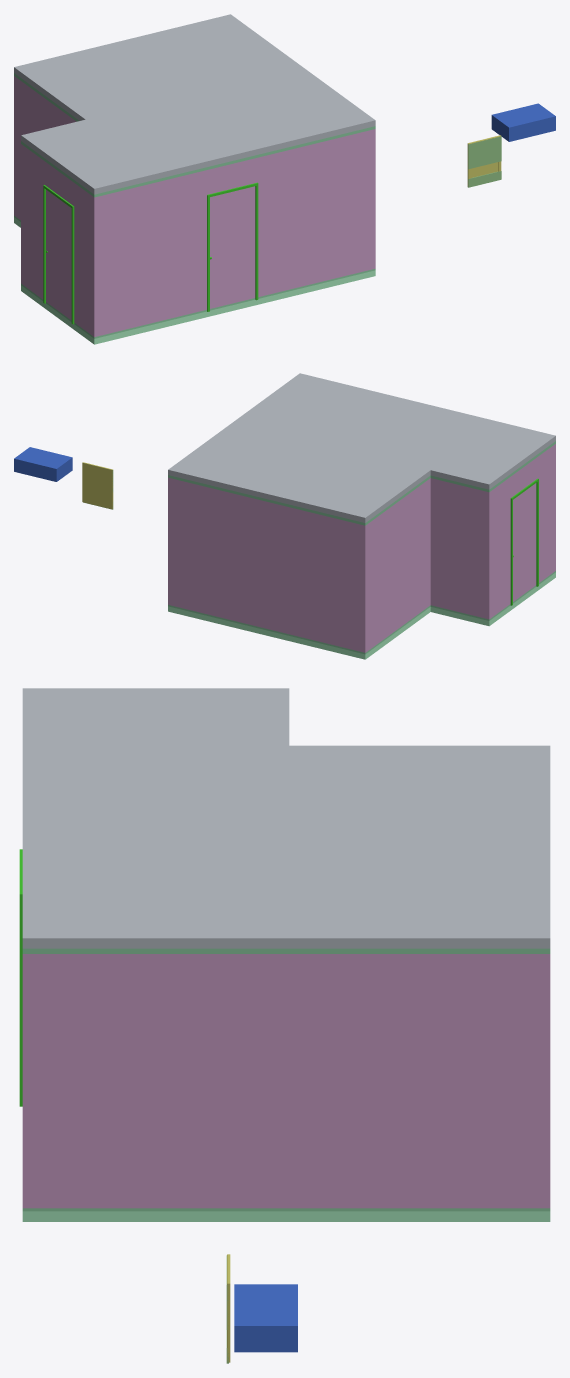
The model's file is FloorPlan5_physics.fbx.
3 views of the same model, one above another, from view 1: azimuth 30°, elevation 25°; view 2: azimuth 150°, elevation 25°; view 3: azimuth 270°, elevation 25° (orthographic). The views are drawn at different scales.
Parts seen in each view (by area): view 1: StandardWallSize, Ceiling, Floor, StandardSinkSize1, StandardDoorFrame1, StandardDoorFrame1 (2), DrawerBase2; view 2: StandardWallSize, Ceiling, Floor, StandardSinkSize1, CabinetDoorBase3, StandardDoorFrame1 (2); view 3: StandardWallSize, Ceiling, Floor, StandardSinkSize1, StandardDoorFrame1.
Part boxes in pixels (x1=…): StandardWallSize: x1=14, y1=73, x2=375, y2=338; Ceiling: x1=14, y1=14, x2=375, y2=194; Floor: x1=14, y1=217, x2=375, y2=344; StandardSinkSize1: x1=491, y1=103, x2=555, y2=141; StandardDoorFrame1: x1=207, y1=182, x2=258, y2=311; StandardDoorFrame1 (2): x1=43, y1=185, x2=74, y2=324; DrawerBase2: x1=468, y1=143, x2=501, y2=169; StandardWallSize: x1=168, y1=441, x2=555, y2=654; Ceiling: x1=168, y1=373, x2=555, y2=522; Floor: x1=168, y1=572, x2=555, y2=659; StandardSinkSize1: x1=14, y1=447, x2=72, y2=481; CabinetDoorBase3: x1=82, y1=462, x2=112, y2=508; StandardDoorFrame1 (2): x1=510, y1=478, x2=538, y2=605; StandardWallSize: x1=22, y1=948, x2=550, y2=1211; Ceiling: x1=22, y1=688, x2=550, y2=948; Floor: x1=22, y1=1211, x2=550, y2=1221; StandardSinkSize1: x1=234, y1=1284, x2=297, y2=1352; StandardDoorFrame1: x1=19, y1=849, x2=22, y2=1106.
Bounding box in the file's own units: 945 × 270 × 457.
